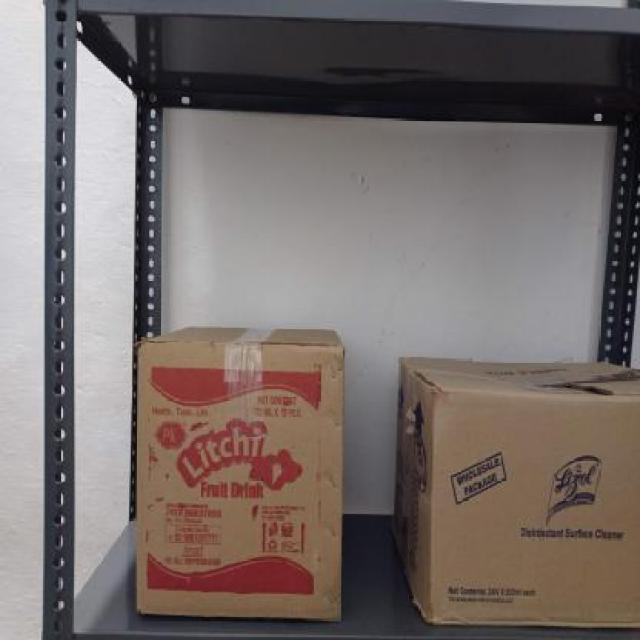box: (136, 342, 341, 618), (427, 387, 640, 626)
